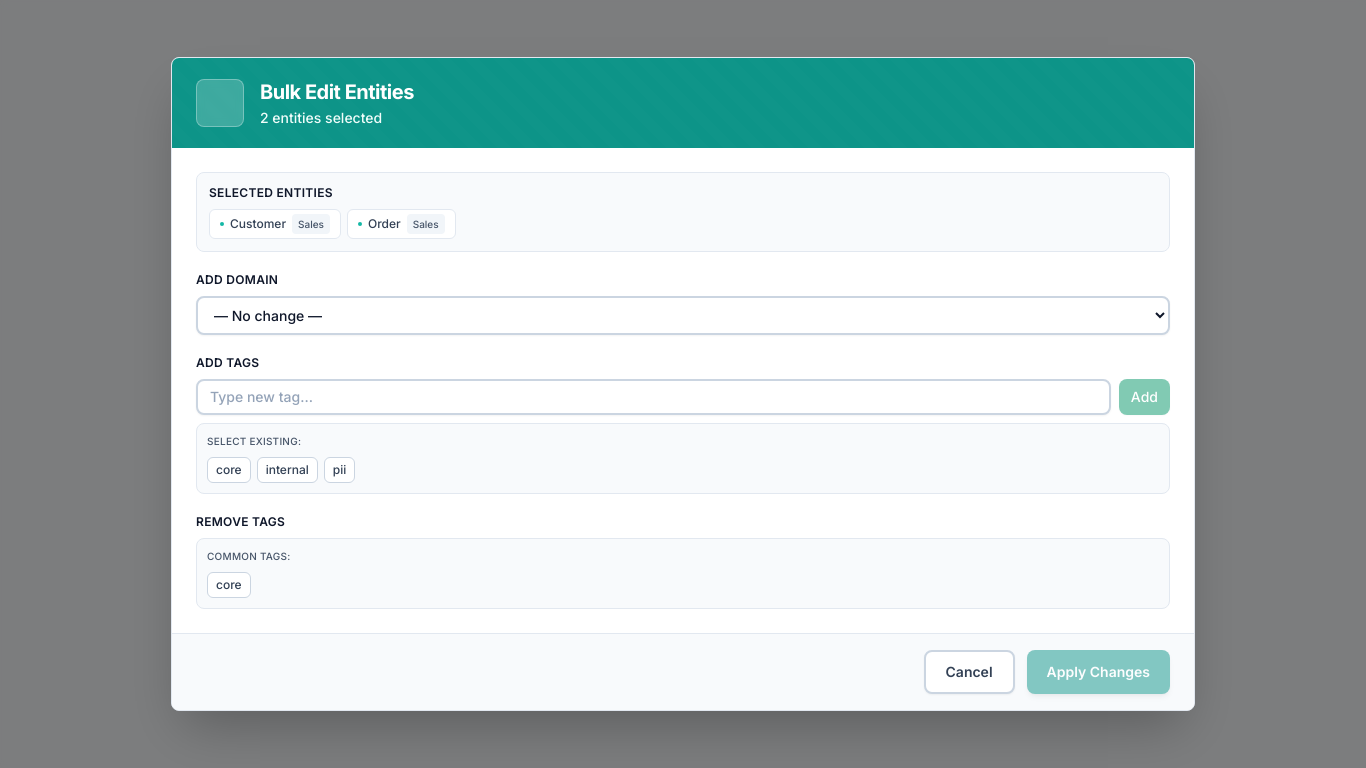
Scenario: BulkEditModal › keeps Apply Changes disabled until an operation is chosen
Expected: the button "Apply Changes" is disabled, [1027, 650, 1170, 694]
Select "Operations" in the dropdown labelled "Add Domain" at [683, 316], box [196, 296, 1170, 335]
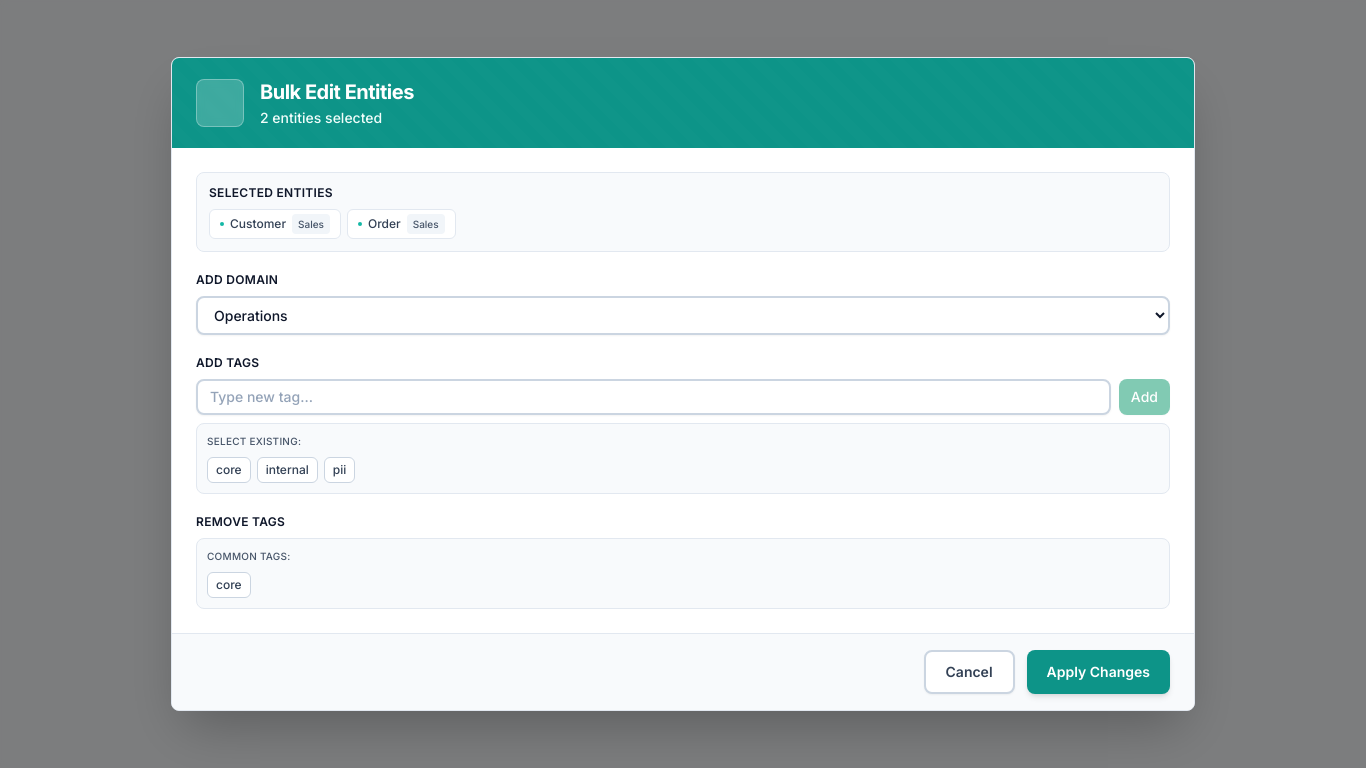
Now the button "Apply Changes" is enabled, box [1027, 650, 1170, 694]
